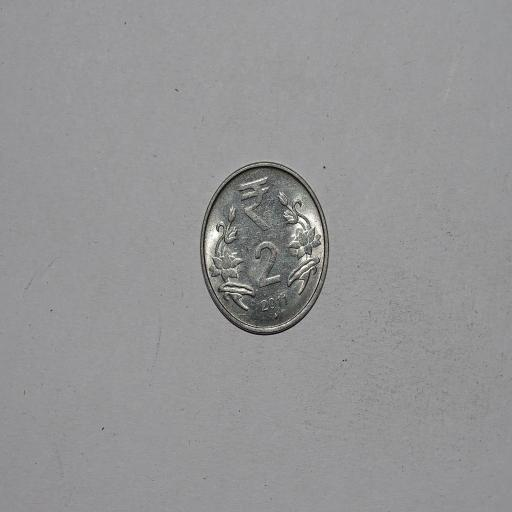rupee2: (198, 161, 331, 340)
